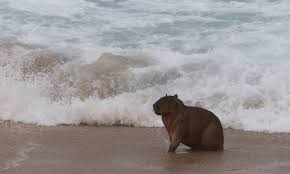capivara: (153, 93, 225, 154)
